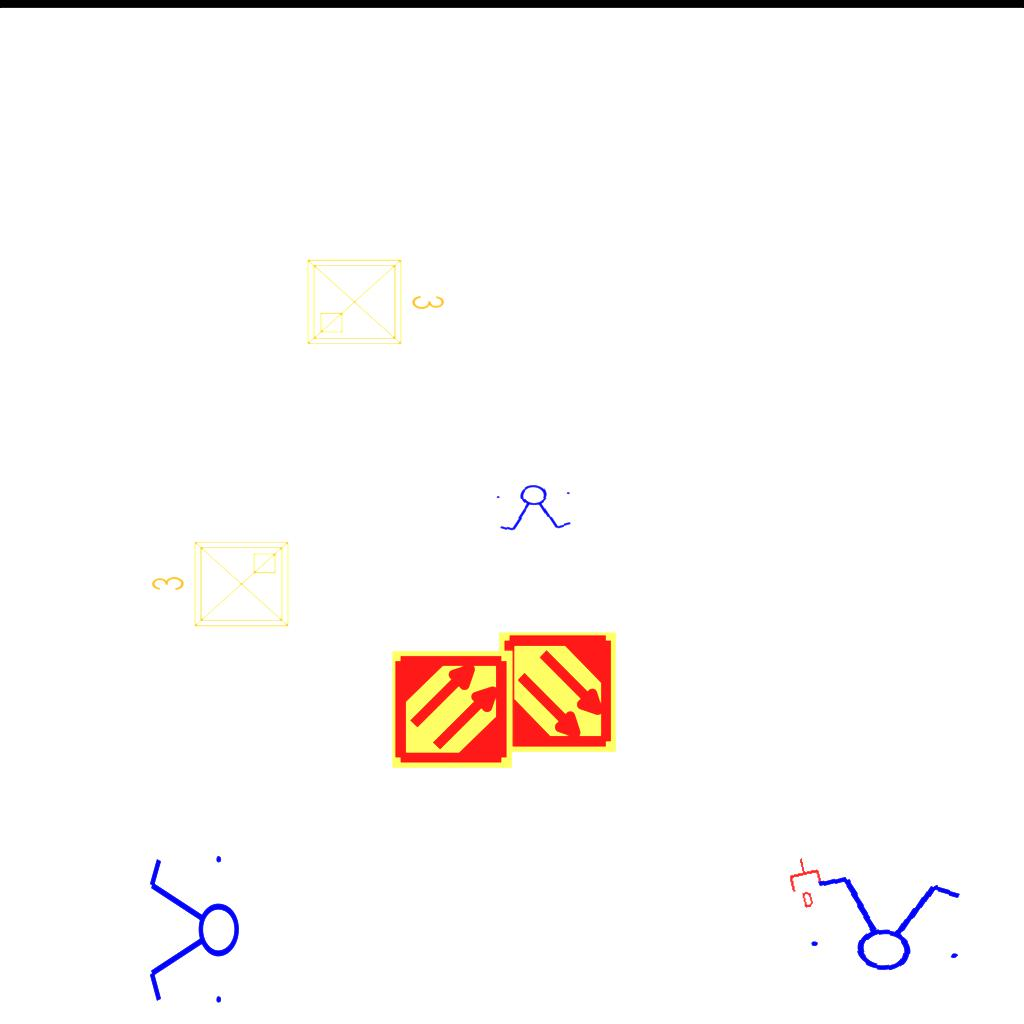ASR_Ansaugrauchmelder: (495, 630, 620, 755), (390, 647, 515, 772)
Datenanschluss_einfach: (783, 853, 829, 911)
Einbaudownlights_LED_Konferenzraeume: (300, 248, 450, 352), (146, 534, 296, 638)
Serienschalter: (797, 868, 973, 980), (145, 847, 241, 1015), (491, 481, 579, 535)
